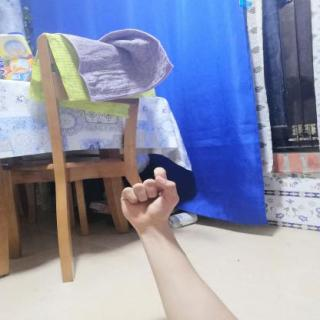FAA: (110, 160, 191, 232)
